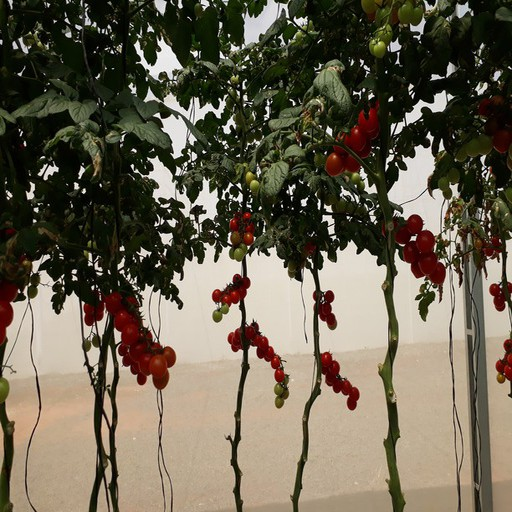green tomato bunch: (359, 1, 425, 57), (239, 161, 271, 204)
mixed tomato bunch: (228, 207, 254, 261), (1, 276, 19, 347), (84, 300, 105, 325)
red tomato bunch: (105, 293, 177, 389), (326, 97, 386, 177), (394, 215, 446, 288), (226, 325, 287, 376), (319, 350, 360, 412), (311, 289, 340, 331), (213, 276, 251, 305), (496, 337, 512, 384), (489, 281, 512, 310)
